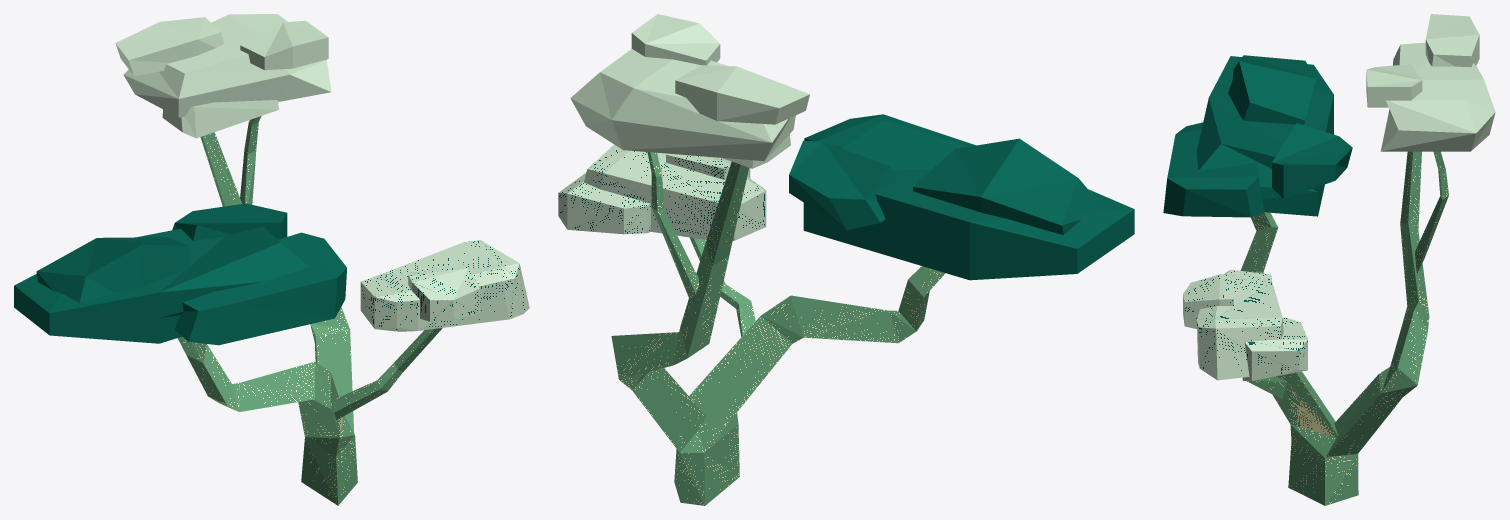
File: tree_test_2.fbx
3 renders of one model, left to right at view 1: azimuth 30°, elevation 25°; view 2: azimuth 150°, elevation 25°; view 3: azimuth 270°, elevation 25°, orthographic. The views are drawn at different scales.
Visible parts, largest first — view 1: foliage.035, foliage.039, trunk.012, foliage.043; view 2: foliage.035, trunk.012, foliage.039, foliage.043; view 3: foliage.035, trunk.012, foliage.039, foliage.043.
Part boxes in pixels (box(x1,y1,x2,y2)): foliage.035: box(14, 203, 346, 345); foliage.039: box(115, 14, 331, 138); trunk.012: box(177, 116, 442, 505); foliage.043: box(360, 240, 529, 331); foliage.035: box(789, 114, 1134, 280); trunk.012: box(611, 152, 945, 505); foliage.039: box(570, 14, 809, 168); foliage.043: box(558, 144, 766, 240); foliage.035: box(1163, 55, 1352, 217); trunk.012: box(1240, 151, 1448, 505); foliage.039: box(1366, 14, 1495, 151); foliage.043: box(1183, 269, 1307, 380).
Size of the model in its own units: 883 by 768 by 556.
